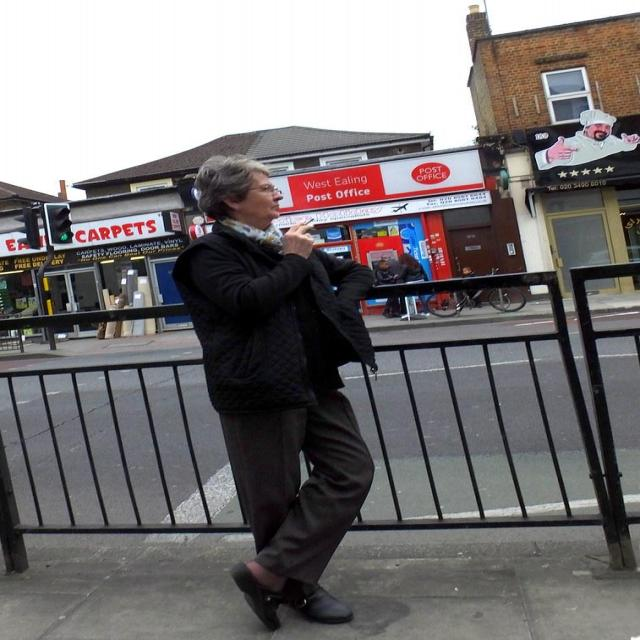Сигарета: (302, 218, 318, 226)
Тело: (185, 157, 378, 602)
